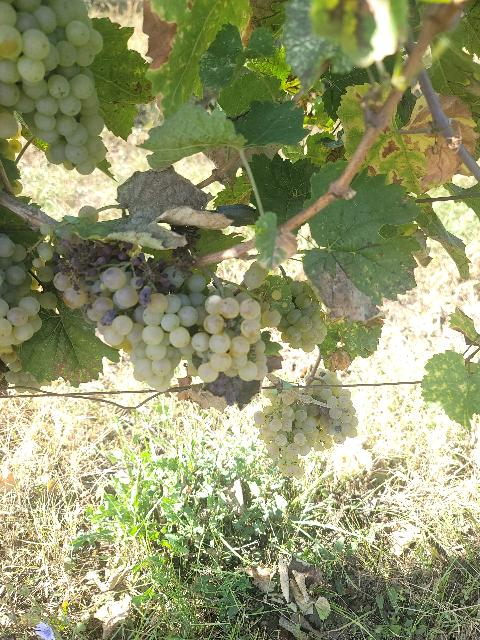grapes: (0, 0, 106, 175), (86, 260, 199, 391), (191, 295, 268, 382), (254, 390, 311, 479), (280, 280, 328, 352), (314, 370, 359, 444)
